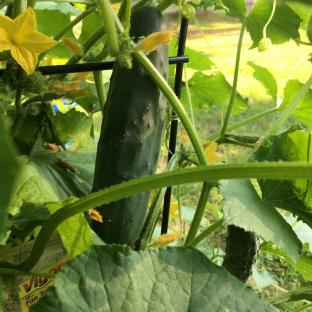Cucumber: (93, 61, 166, 191), (223, 226, 259, 282), (307, 13, 311, 42)
